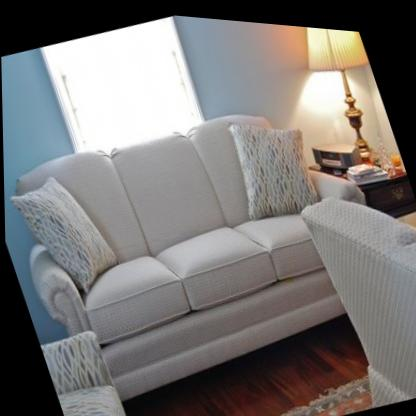Lamp: (288, 20, 402, 171)
Sofa: (1, 63, 415, 416)
